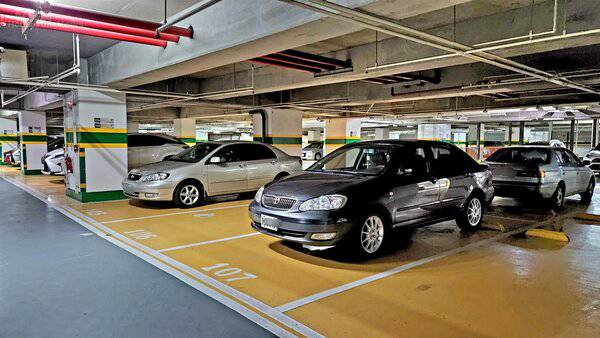car: (247, 137, 494, 257), (119, 140, 305, 207), (486, 142, 596, 210), (41, 141, 65, 185), (303, 135, 323, 162)
